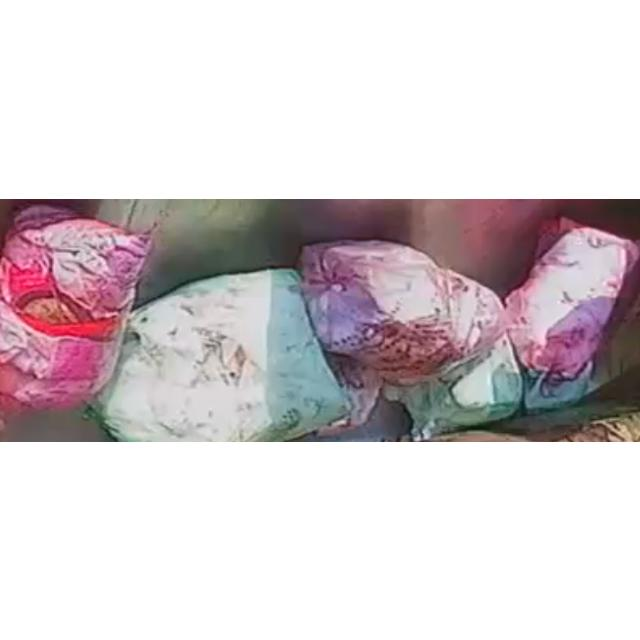general_trashbag: (94, 268, 348, 440), (395, 303, 522, 439)
other_trashbag: (0, 204, 151, 416), (300, 239, 505, 381), (508, 227, 640, 394)
